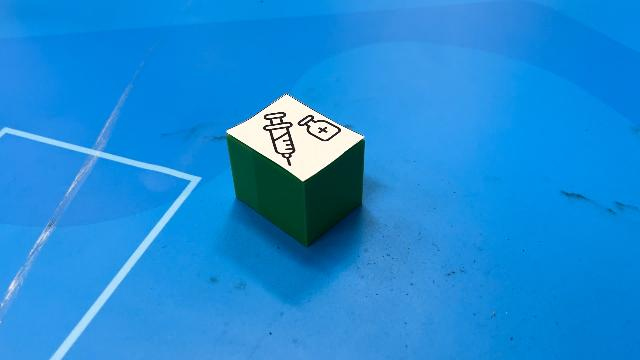syringe: (225, 92, 365, 248)
